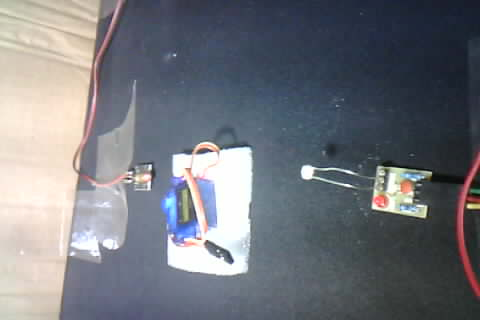motor: (162, 147, 261, 275)
